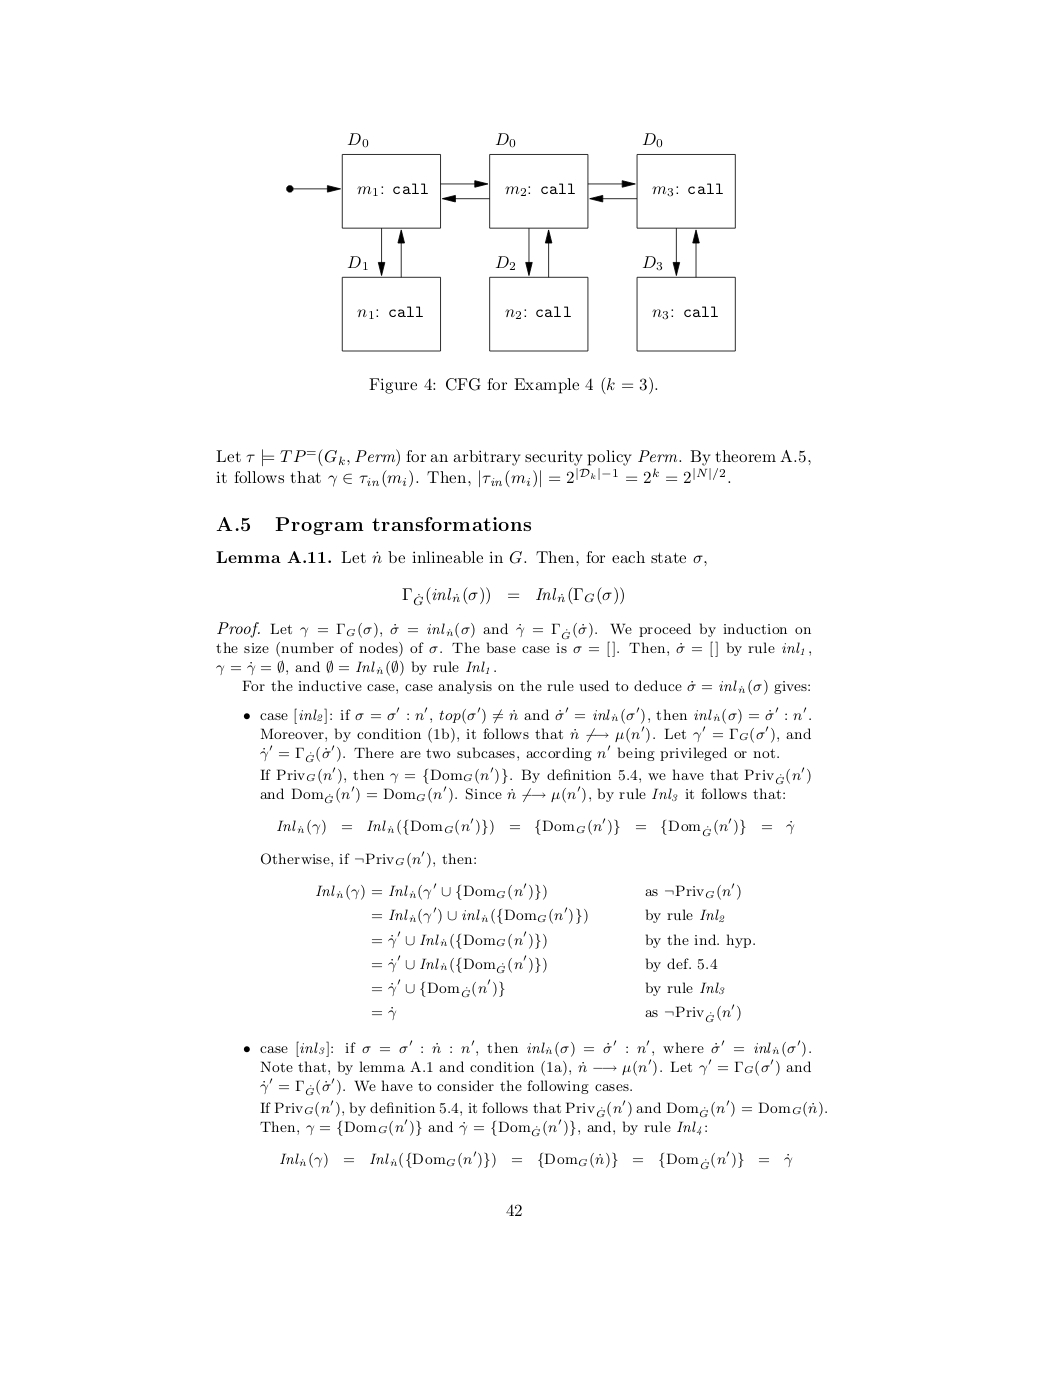figure: (286, 133, 734, 351)
formula: (278, 817, 794, 837), (280, 1150, 792, 1170), (317, 882, 740, 900), (372, 929, 755, 950), (260, 1119, 705, 1136), (372, 1003, 740, 1023), (372, 978, 724, 999), (372, 954, 717, 974), (372, 906, 724, 924), (402, 586, 623, 606)
